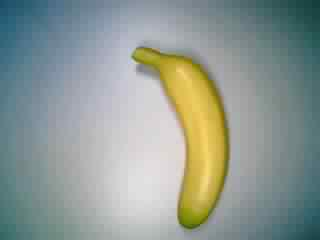banana: (129, 40, 235, 230)
